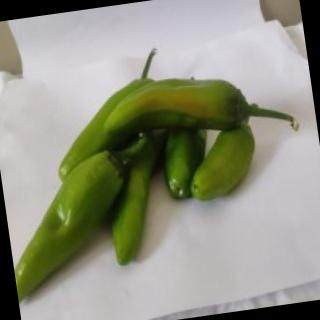Cabai Hijau: (1, 146, 146, 316), (97, 60, 302, 158)
